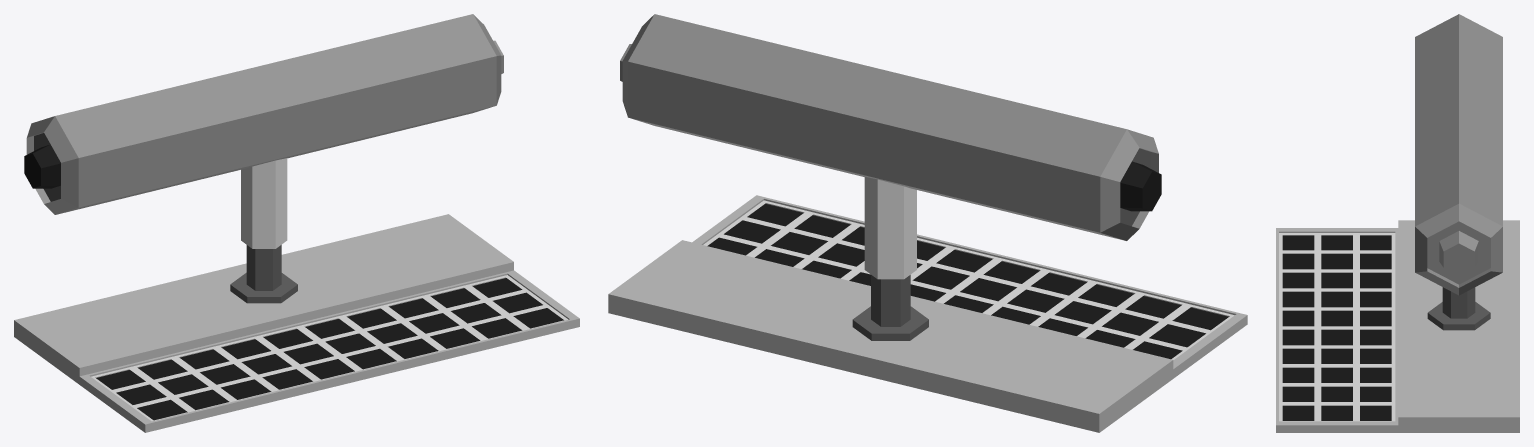
File: Beer_Dispenser.glb
3 renders of one model, left to right at view 1: azimuth 30°, elevation 25°; view 2: azimuth 150°, elevation 25°; view 3: azimuth 270°, elevation 25°, orthographic. The views are drawn at different scales.
Parts seen in each view (by area): view 1: Beer_Dispenser_Base; view 2: Beer_Dispenser_Base; view 3: Beer_Dispenser_Base.
Part boxes in pixels (x1,y1,x2,y2): Beer_Dispenser_Base: (14,14,579,432); Beer_Dispenser_Base: (608,14,1247,432); Beer_Dispenser_Base: (1276,14,1519,432).
Size of what is drawn, in the model's own units: 1.24 by 0.6231 by 0.61.
Materials: 1 (1 with a texture image).
